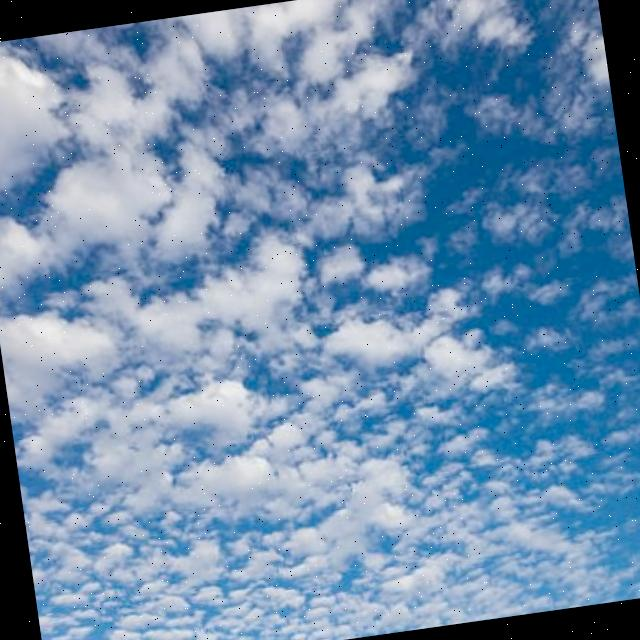Ac: (1, 1, 640, 569)
